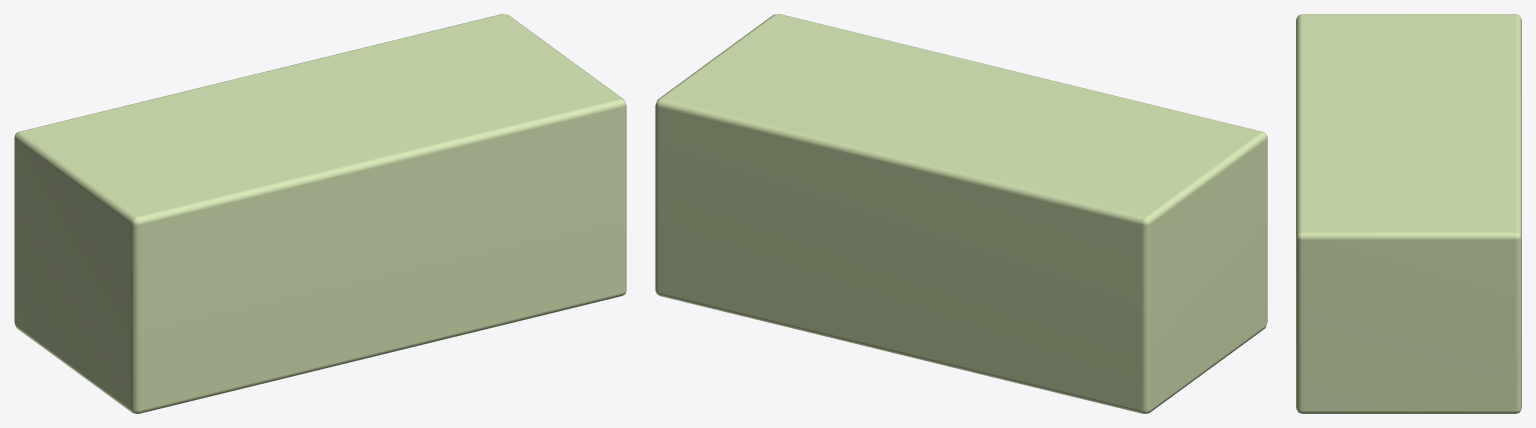
Rendered from SoftHedge.fbx.
3 renders of one model, left to right at view 1: azimuth 30°, elevation 25°; view 2: azimuth 150°, elevation 25°; view 3: azimuth 270°, elevation 25°, orthographic. The views are drawn at different scales.
Parts seen in each view (by area): view 1: TrimmedHedge; view 2: TrimmedHedge; view 3: TrimmedHedge.
Boxes of the visible parts, x1=… form: TrimmedHedge: x1=14, y1=14, x2=626, y2=413; TrimmedHedge: x1=655, y1=14, x2=1267, y2=413; TrimmedHedge: x1=1296, y1=14, x2=1521, y2=413.
Size of the model in its own units: 2.1 by 0.8 by 0.9.
